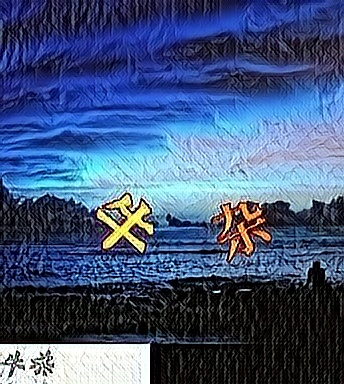C5A3: (94, 190, 157, 257)
D4D3: (210, 193, 273, 260)
